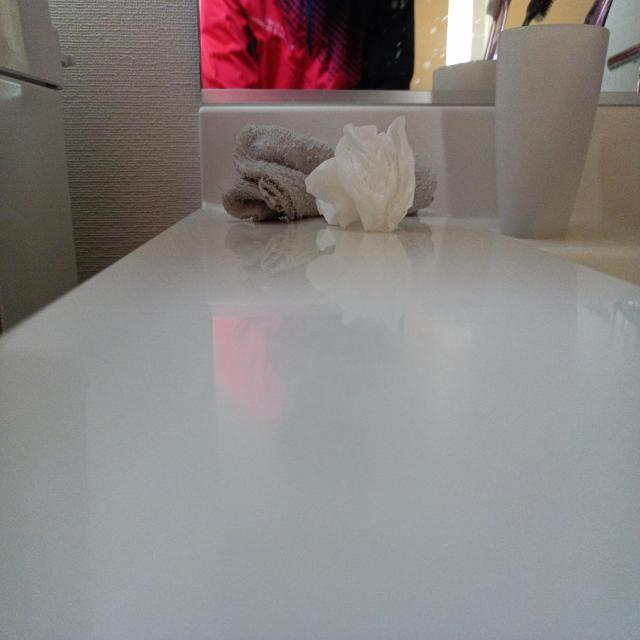Paper: (301, 112, 448, 246)
